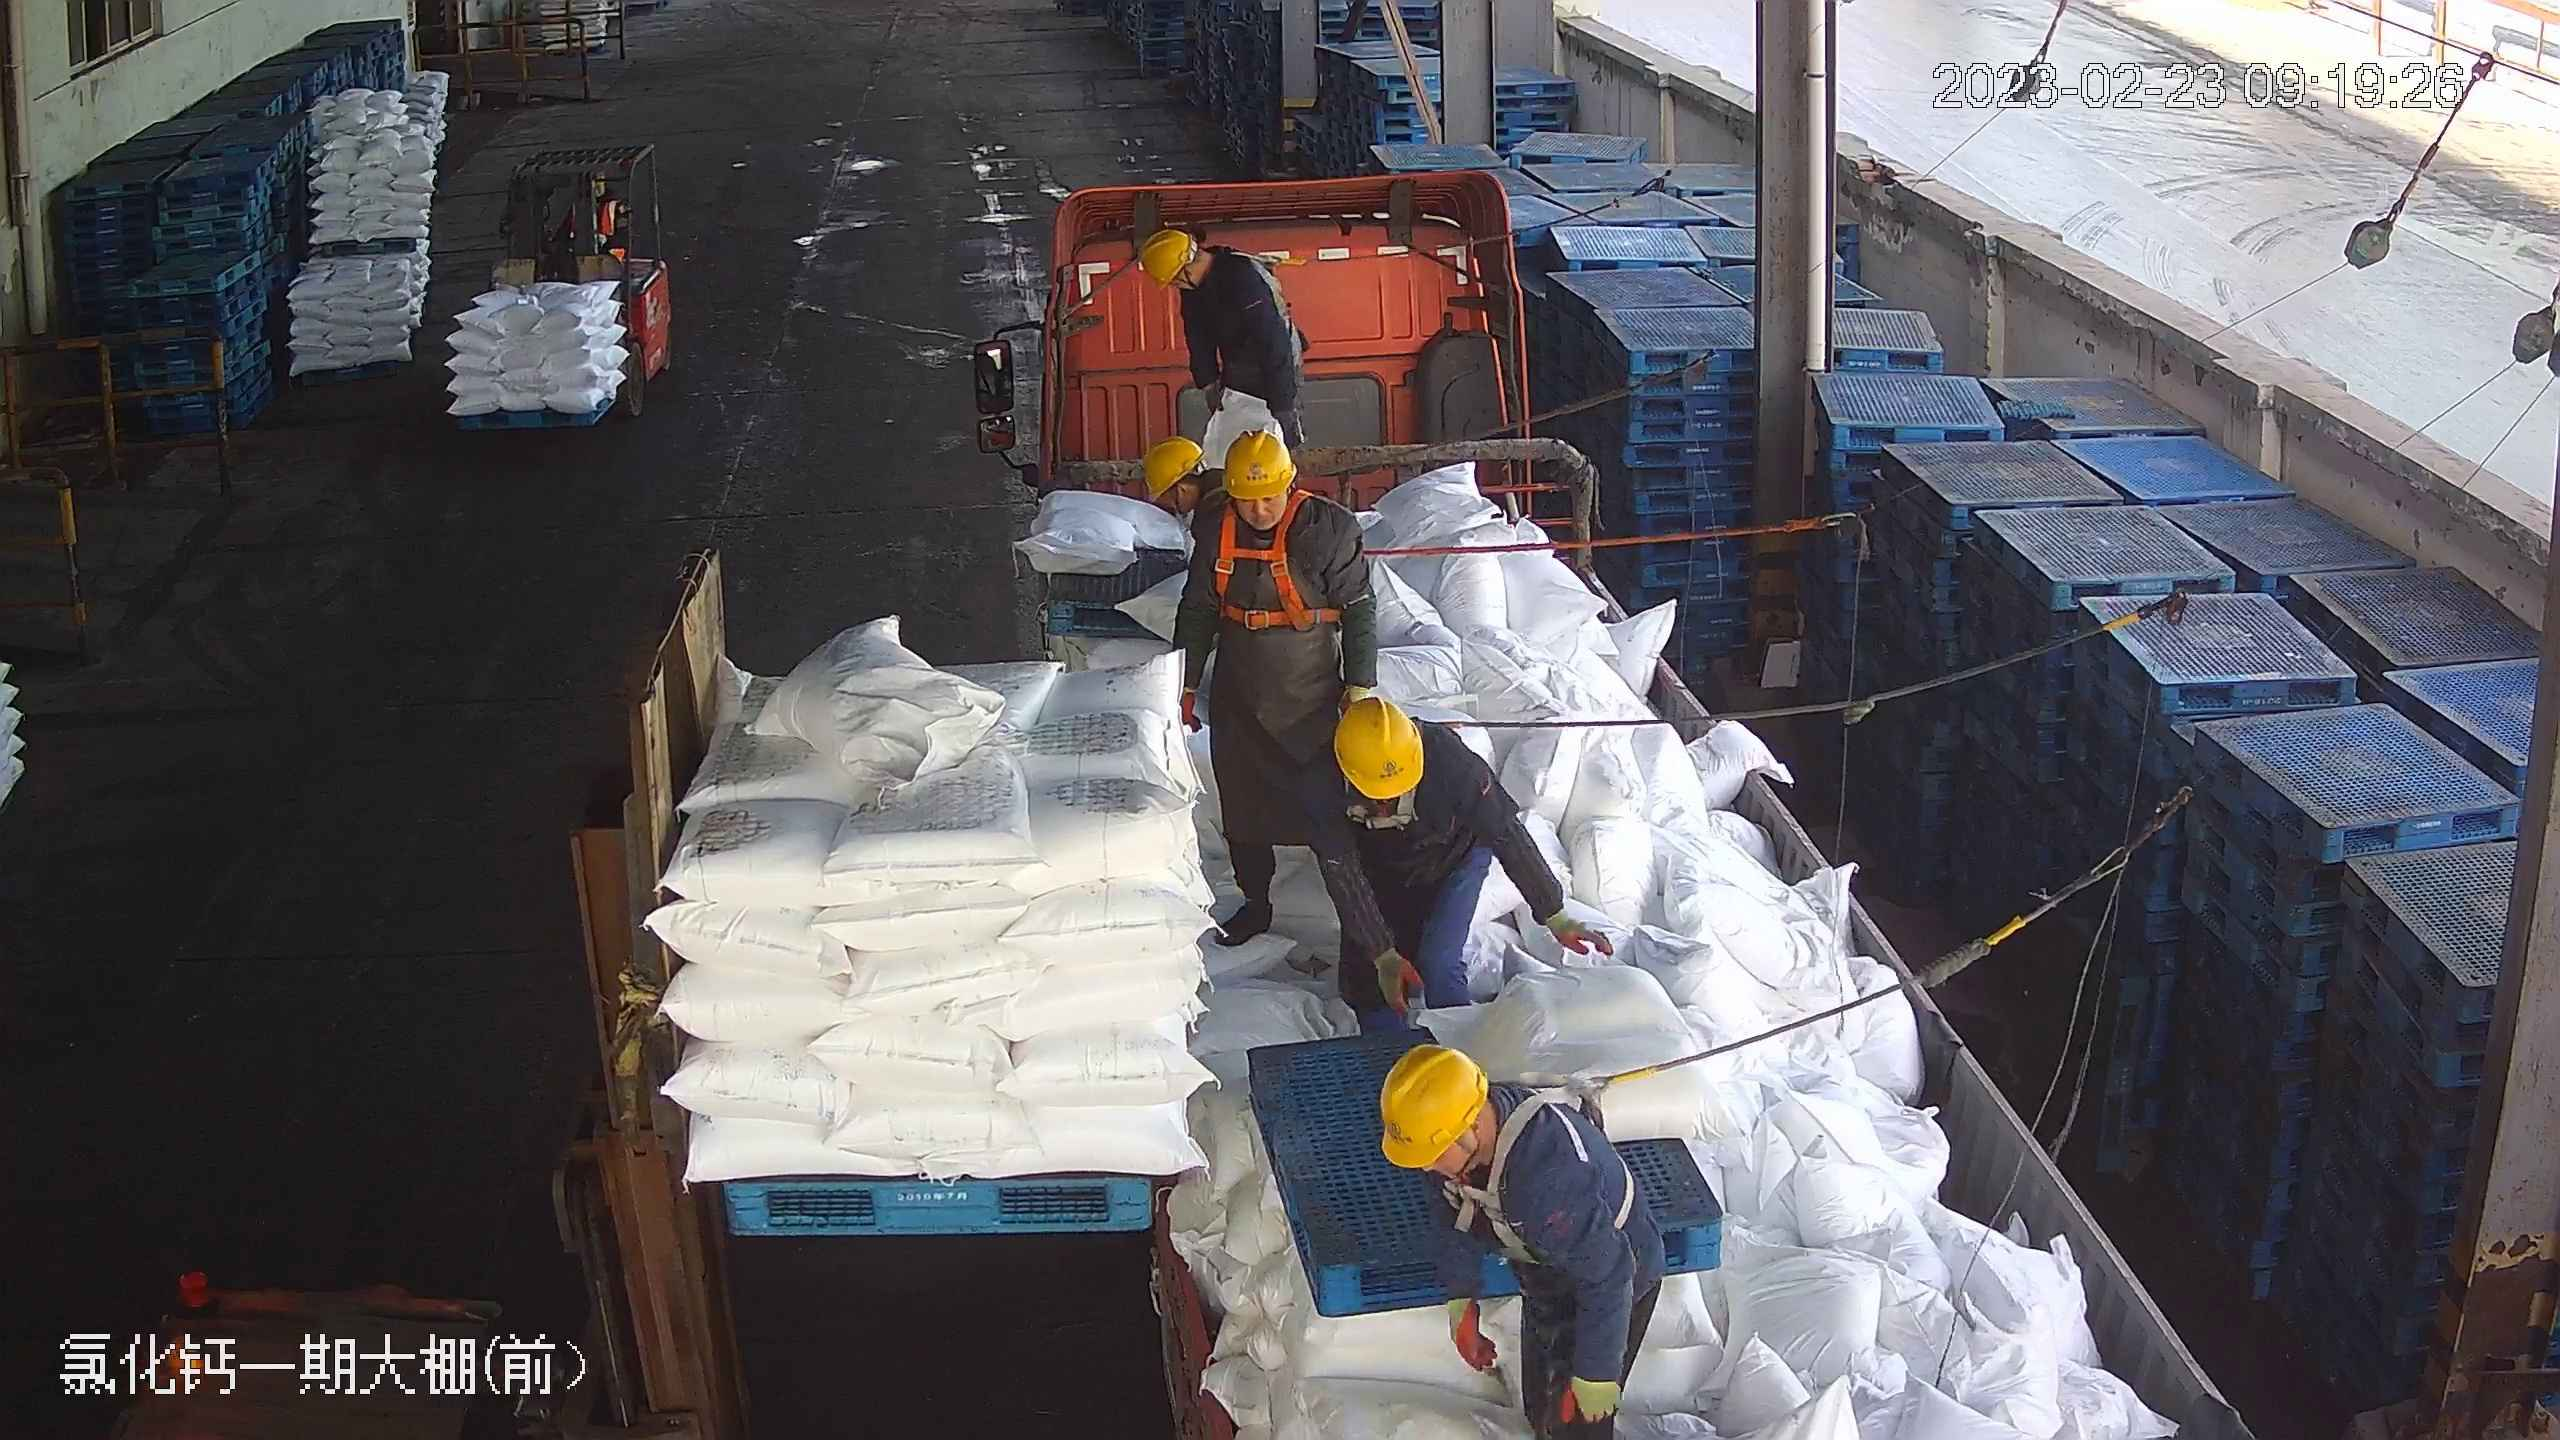belt: (1441, 1086, 1652, 1255), (1213, 485, 1345, 630), (1230, 245, 1310, 296)
head: (1378, 1047, 1581, 1236), (1188, 426, 1358, 585), (1318, 689, 1487, 836), (1142, 229, 1260, 324)
helmet: (1378, 1043, 1486, 1168), (1335, 691, 1426, 798), (1220, 428, 1294, 498), (1142, 436, 1205, 498), (1141, 229, 1193, 288)
people: (1164, 422, 1374, 944), (1306, 693, 1609, 1028), (1384, 1050, 1648, 1435), (1137, 234, 1311, 452)
truck: (978, 157, 2257, 1435)
